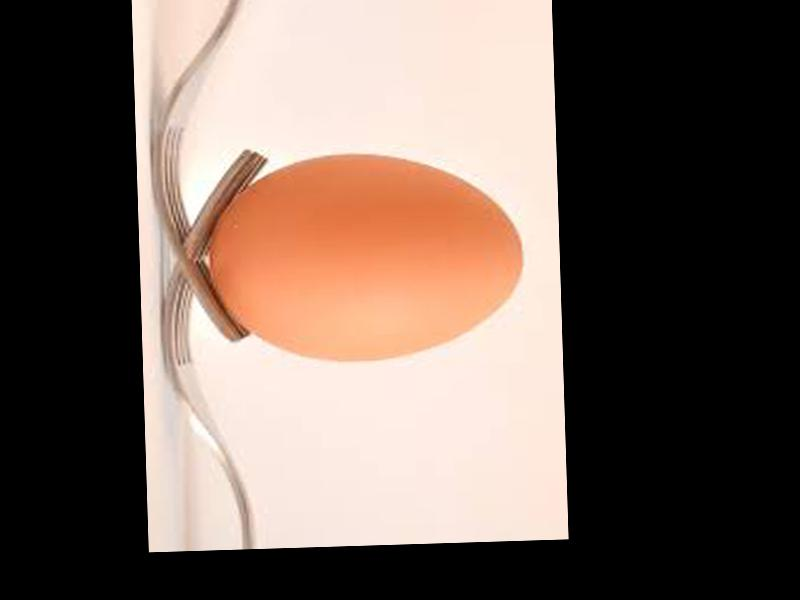Eggs: (206, 149, 525, 365)
